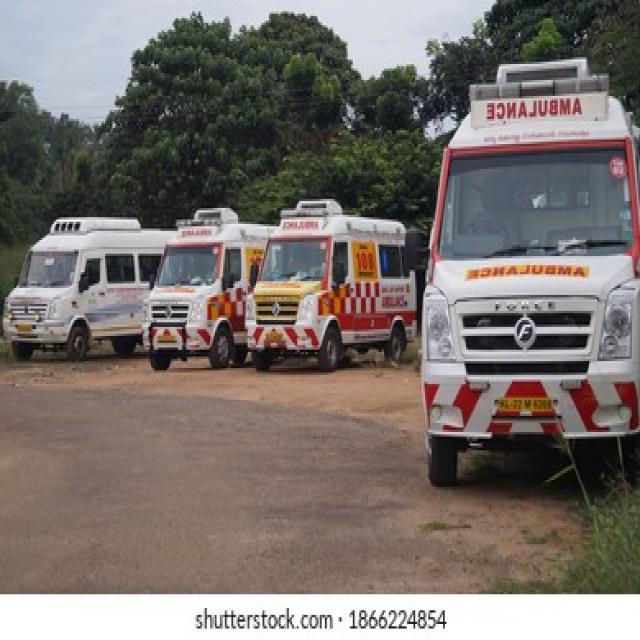ambulance: (425, 73, 640, 484), (257, 199, 407, 366), (156, 209, 254, 382)
